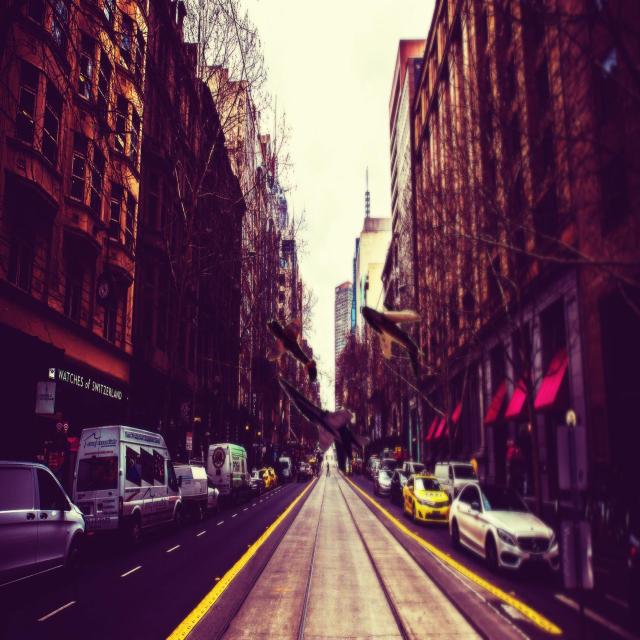airplane: (278, 375, 363, 471), (358, 294, 426, 376), (264, 316, 317, 379)
